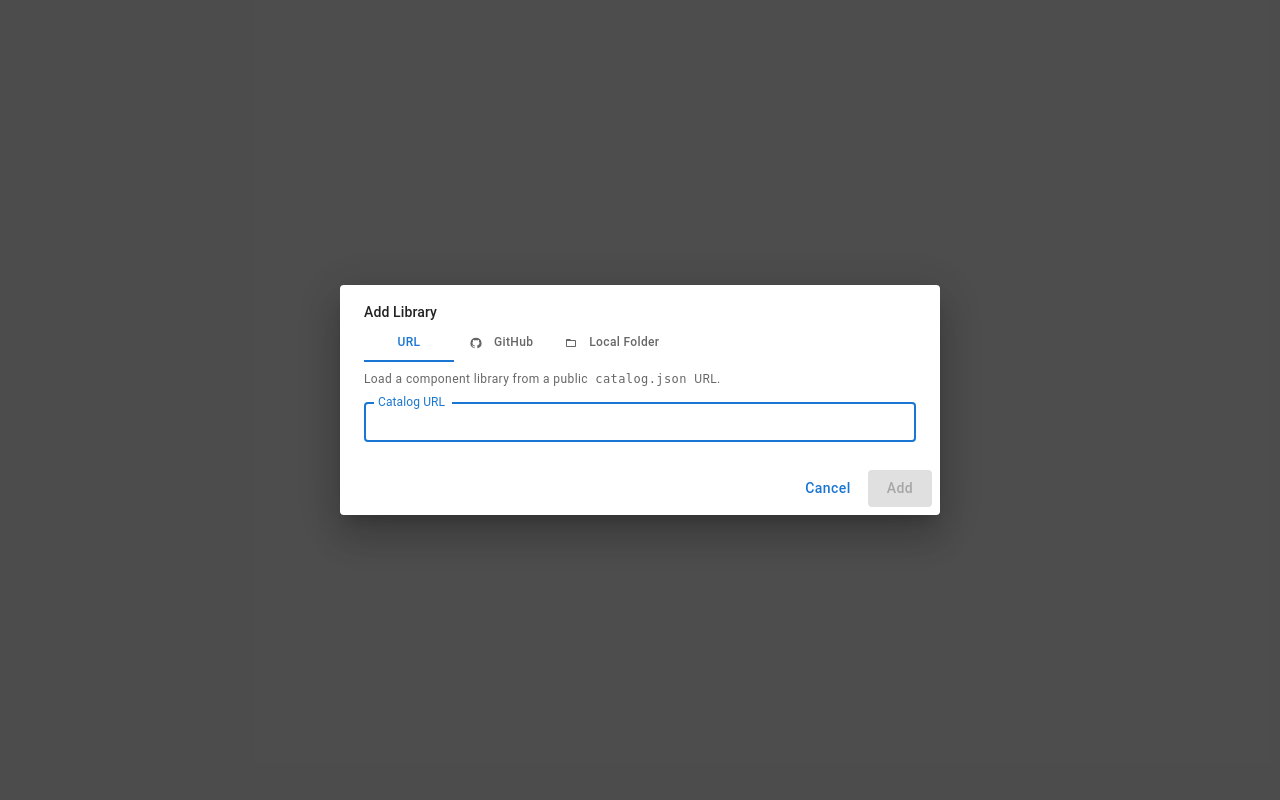
adding by URL › shows the failure instead of closing on it
Type "https://x/bad.json" into the field labelled "Catalog URL" at (640, 422), box x1=364 y1=402 x2=916 y2=442
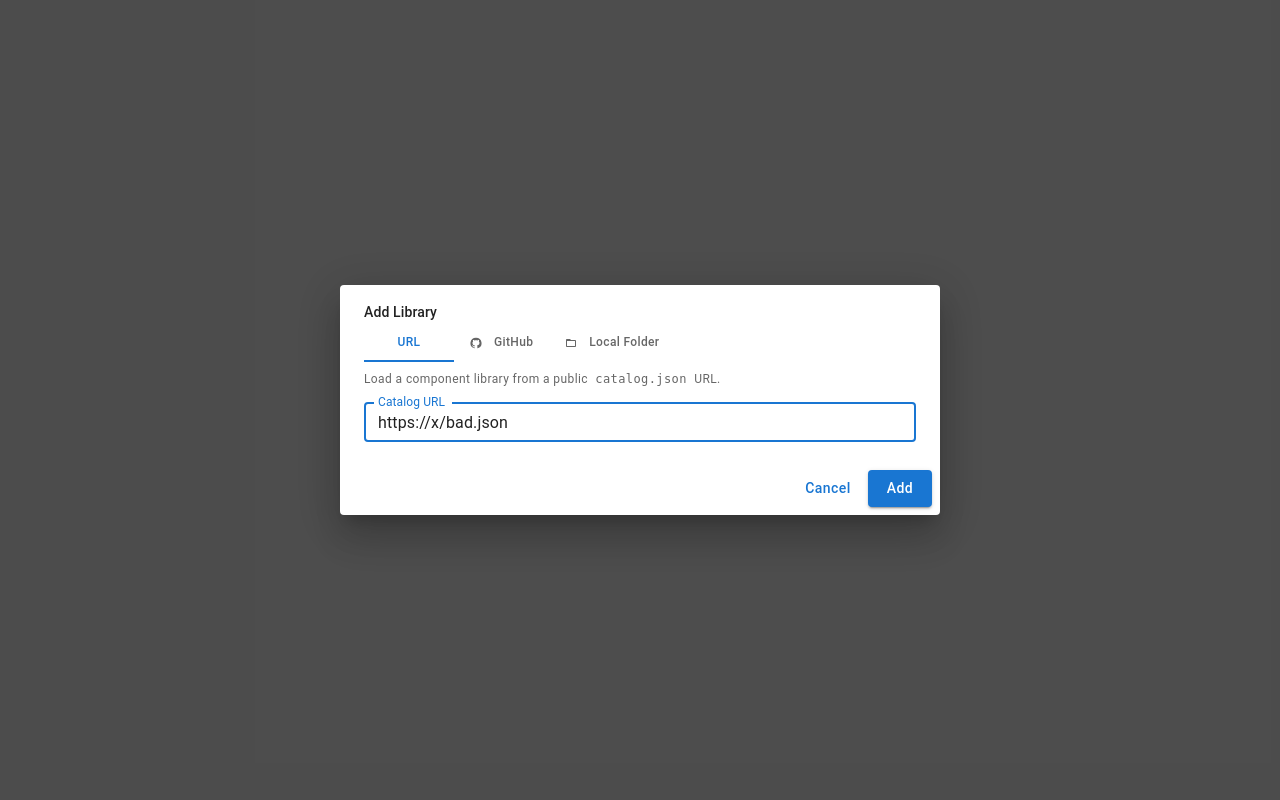
Click the button "Add" at (900, 489), box x1=868 y1=470 x2=932 y2=507
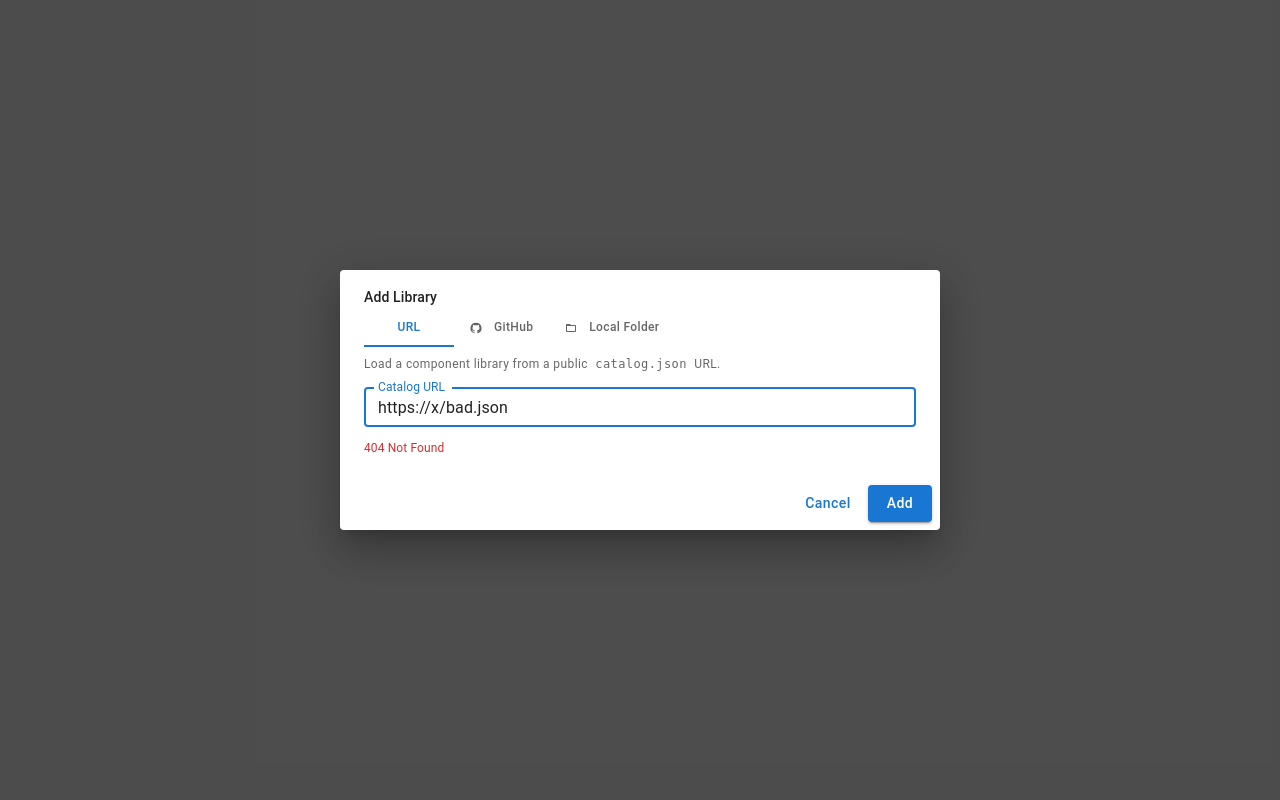
Check: the text "404 Not Found" is shown, box x1=364 y1=441 x2=444 y2=455
